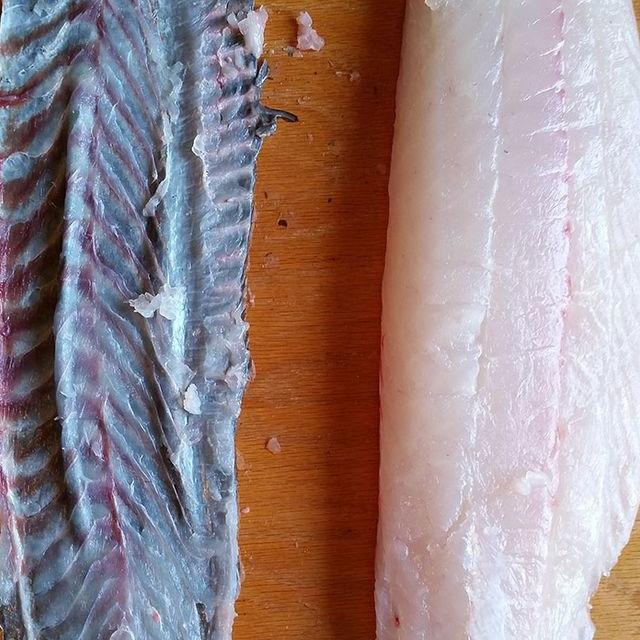fish: (329, 0, 640, 640)
